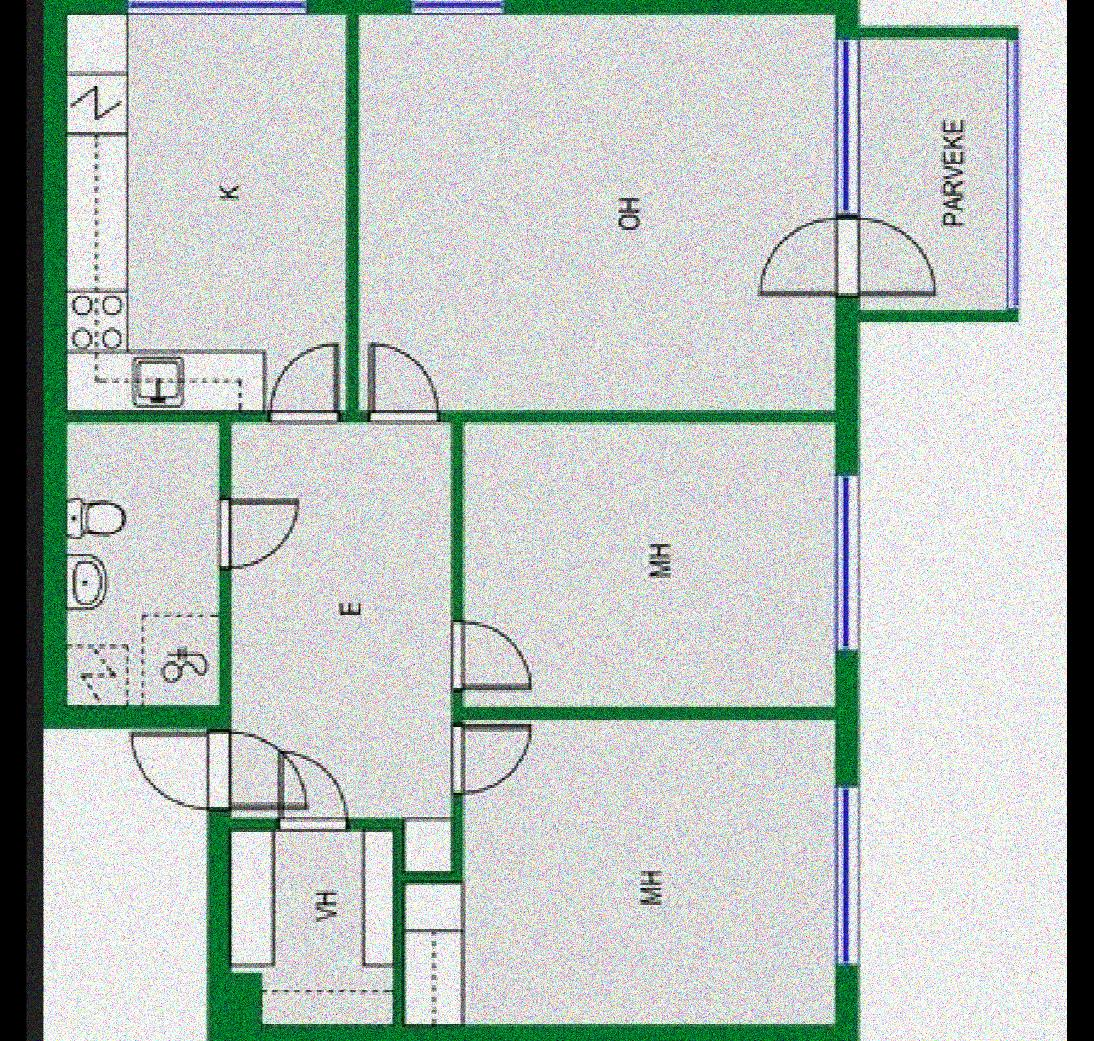door: (740, 213, 944, 313), (128, 726, 300, 828), (208, 494, 306, 568), (266, 334, 342, 420), (446, 725, 530, 802), (272, 756, 342, 840), (450, 618, 526, 694), (368, 346, 440, 416)
window: (994, 36, 1024, 303), (830, 784, 860, 966), (828, 47, 860, 210), (836, 474, 866, 646), (125, 0, 305, 14), (406, 0, 510, 5)
zone: (357, 16, 834, 410), (466, 723, 836, 1021), (69, 13, 345, 410), (470, 426, 834, 704), (236, 419, 446, 809), (73, 420, 217, 702), (860, 38, 1006, 307), (262, 834, 394, 1015)
